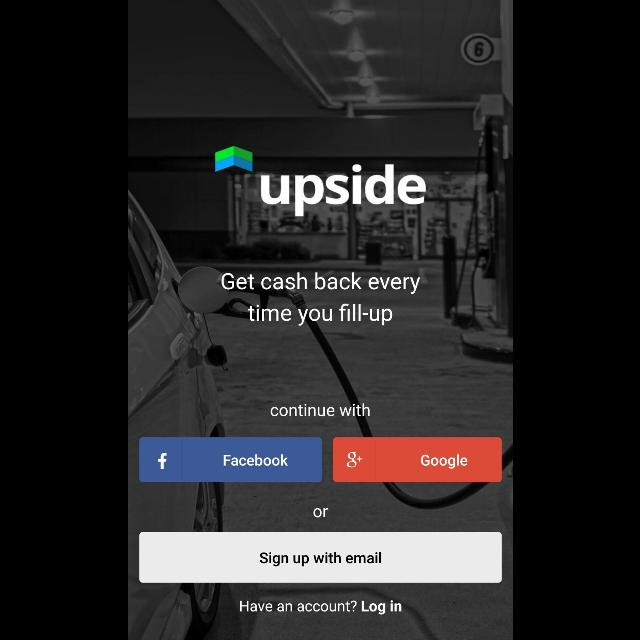backgroundimage: (128, 1, 512, 640)
image: (214, 146, 252, 172)
text: (220, 272, 420, 326), (260, 165, 426, 218), (239, 601, 401, 615), (269, 403, 369, 417), (312, 506, 328, 518)
textbutton: (139, 532, 501, 582), (138, 438, 322, 482), (332, 438, 500, 482)
